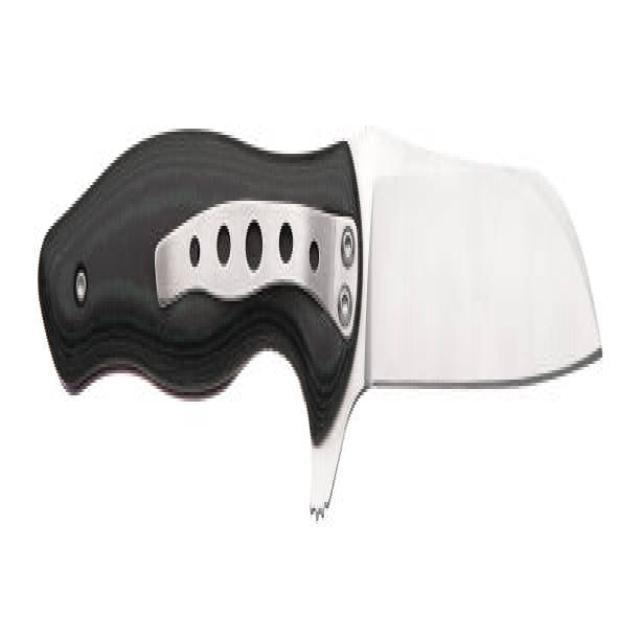knife: (29, 74, 612, 536)
